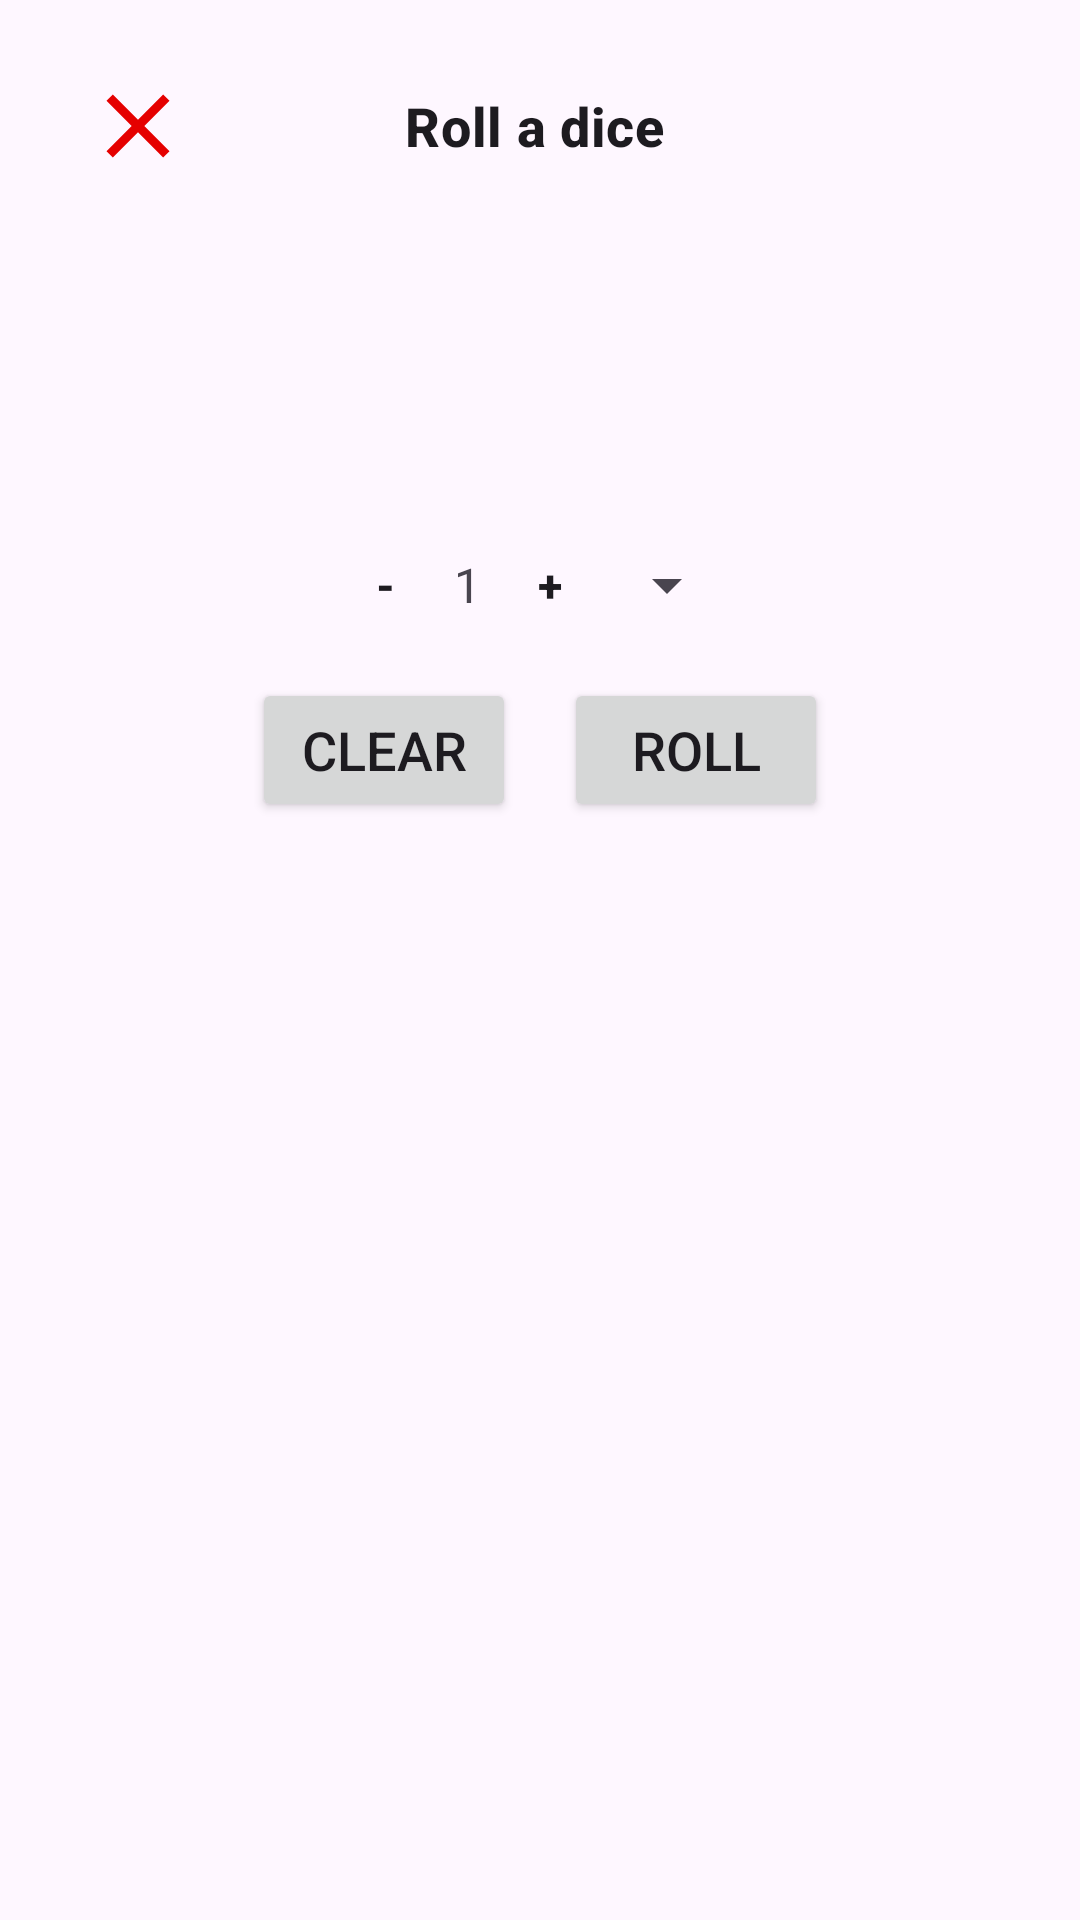

Icon click points for this 1080px×1920px phone screenshot, format (x=x, y=y):
Close popup: (x=138, y=126)
